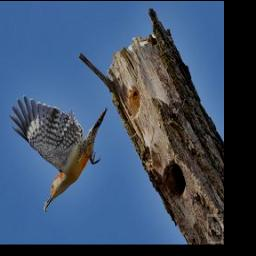Woodpecker: (8, 93, 108, 213)
